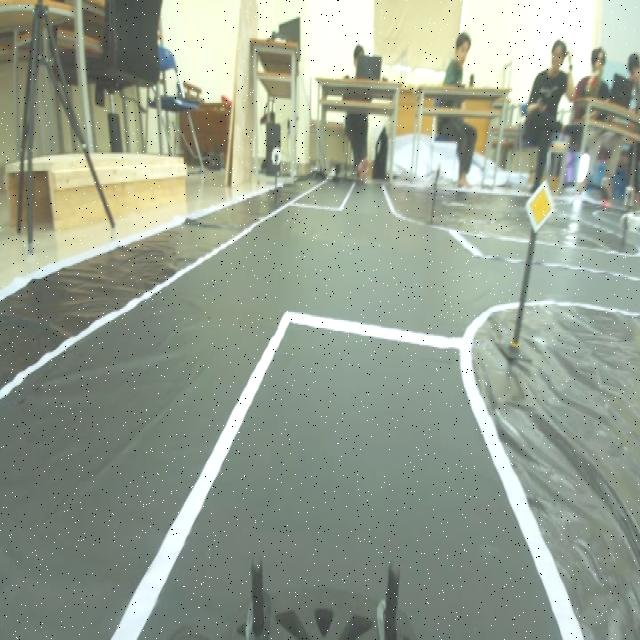priority: (522, 162, 556, 240)
